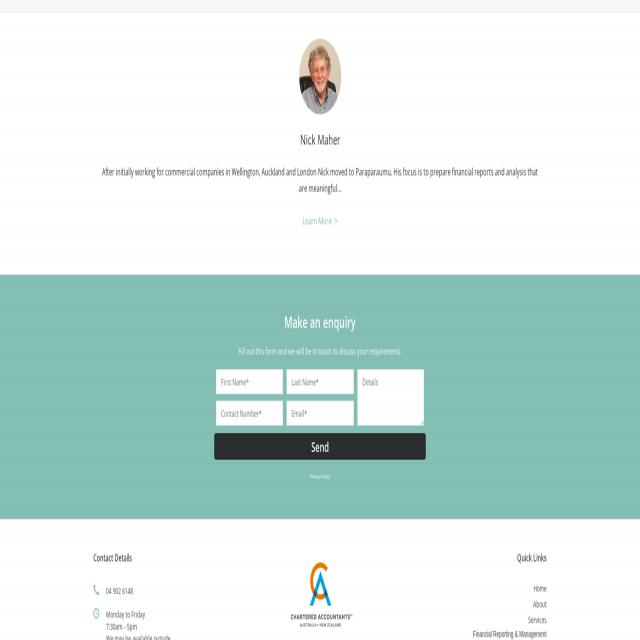button: (214, 433, 426, 460), (298, 37, 342, 131)
field: (358, 370, 424, 425), (286, 400, 354, 426), (216, 400, 283, 426), (286, 369, 354, 394), (216, 369, 283, 394)
